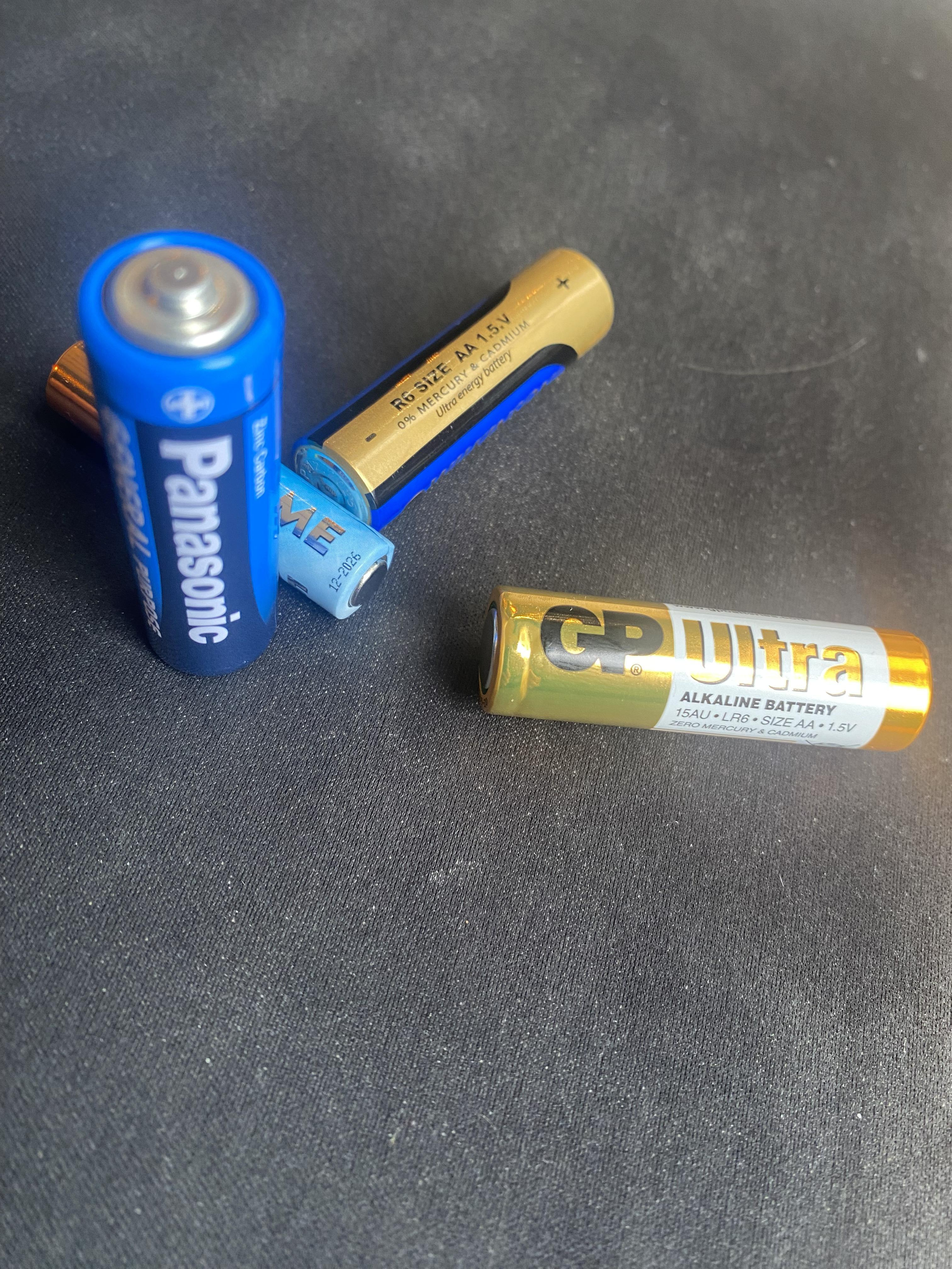AA: (285, 239, 621, 539), (70, 224, 288, 686), (466, 579, 938, 762)
